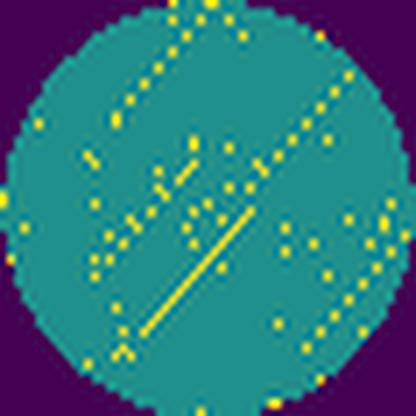Scratch: (126, 200, 269, 350)
